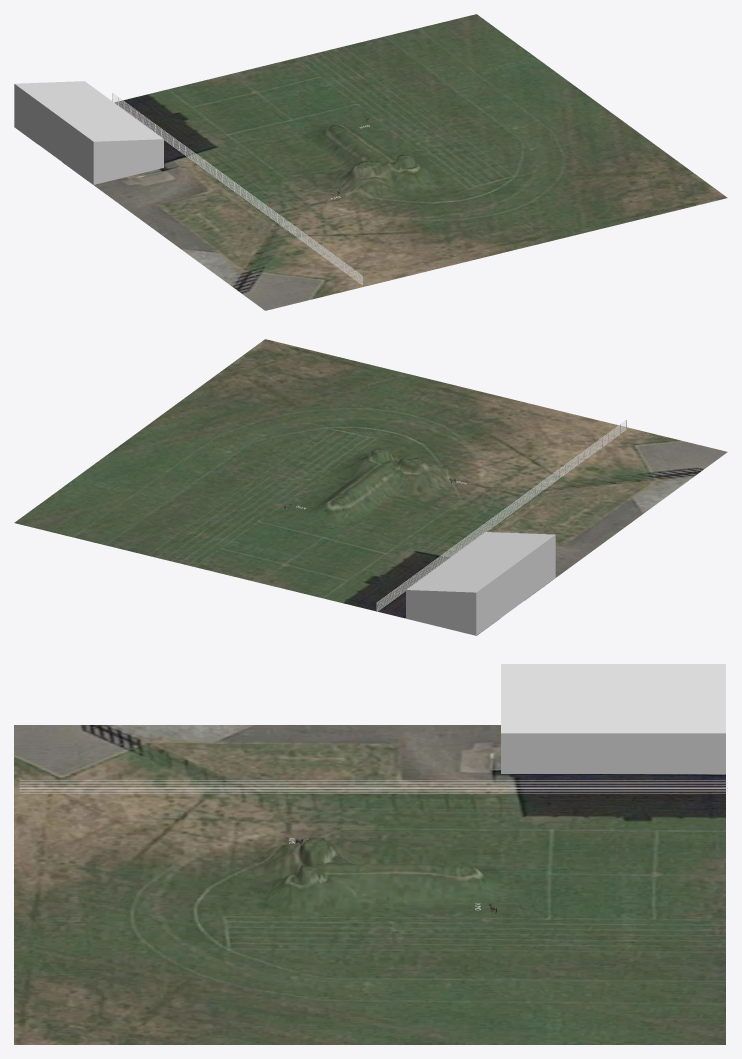
File: potreroconburris.glb
3 renders of one model, top to bottom at view 1: azimuth 30°, elevation 25°; view 2: azimuth 150°, elevation 25°; view 3: azimuth 270°, elevation 25°, orthographic. The views are drawn at different scales.
Parts seen in each view (by area): view 1: terrenoburrilandia, Cube, Plane; view 2: terrenoburrilandia, Cube, Plane; view 3: terrenoburrilandia, Cube, Plane.
Boxes of the visible parts, box(x1,y1,x2,y2) form: terrenoburrilandia: box(14, 14, 727, 310); Cube: box(14, 81, 163, 184); Plane: box(112, 93, 362, 284); terrenoburrilandia: box(14, 339, 727, 635); Cube: box(406, 532, 555, 635); Plane: box(376, 420, 626, 611); terrenoburrilandia: box(14, 725, 725, 1044); Cube: box(501, 664, 725, 773); Plane: box(19, 780, 727, 793).
Size of the model in its own units: 21.26 by 1.9 by 20.05.
Materials: 5 (1 with a texture image).
